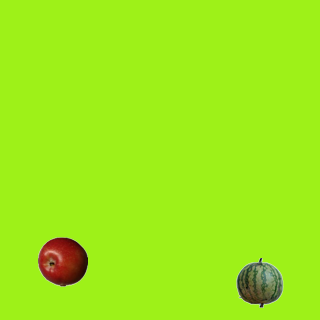Apple Braeburn: (37, 236, 87, 286)
Watermelon: (234, 257, 284, 307)
